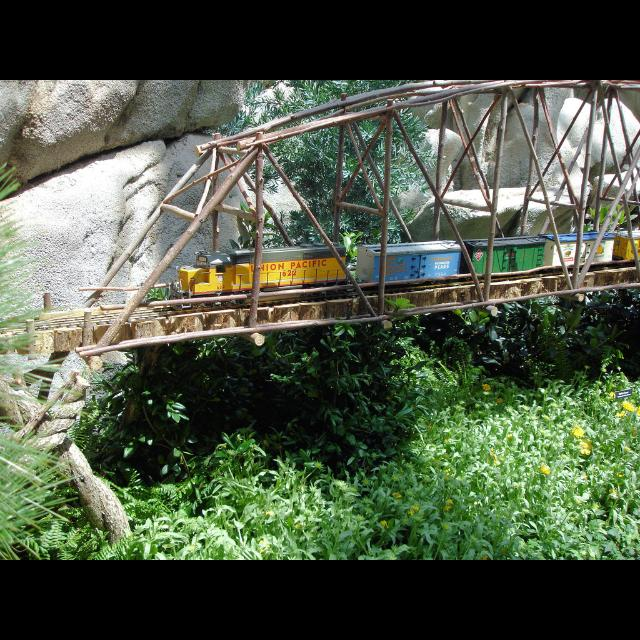Flower: (251, 390, 639, 550), (572, 423, 582, 439), (480, 384, 490, 394)
